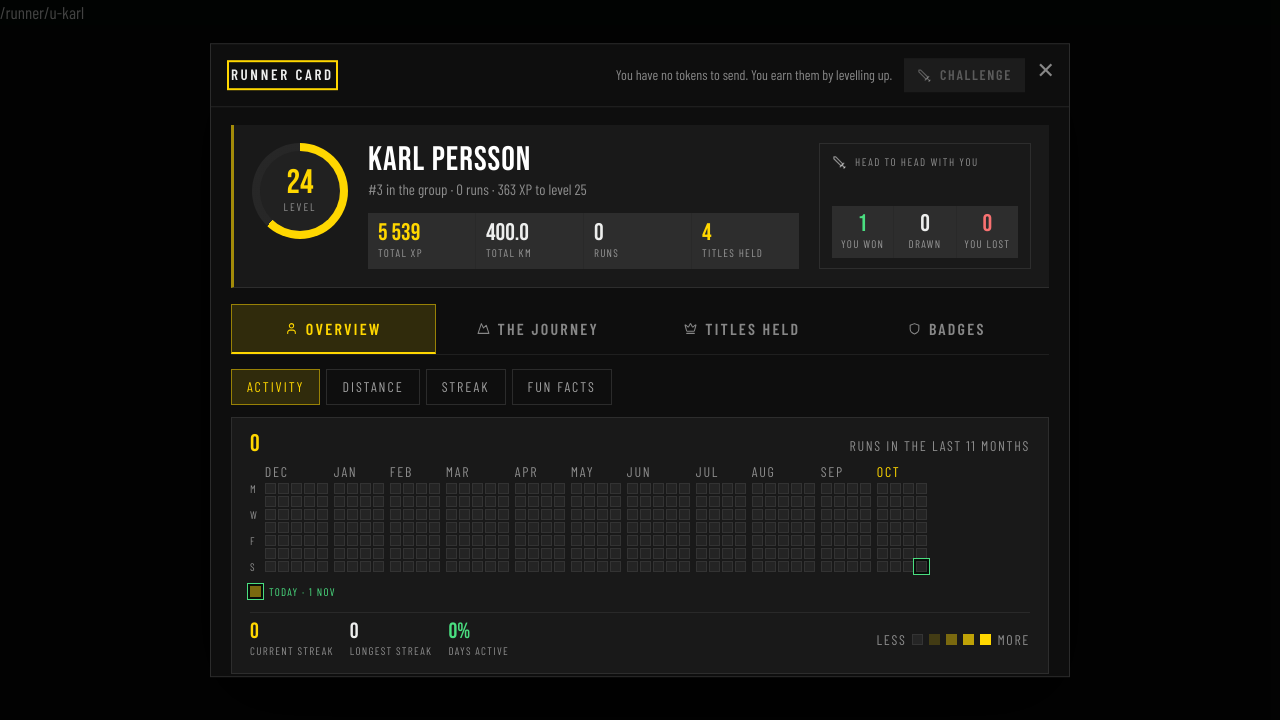
the Titles held tab of the popup › keeps the note above the Runner-up list when a category has only runner-up titles
The width and height of the screenshot is (1280, 720).
Check: the heading "Karl Persson" is shown, box 368,144 -> 531,178
Click the tab "Titles held": (742, 329) 640,304 -> 844,354
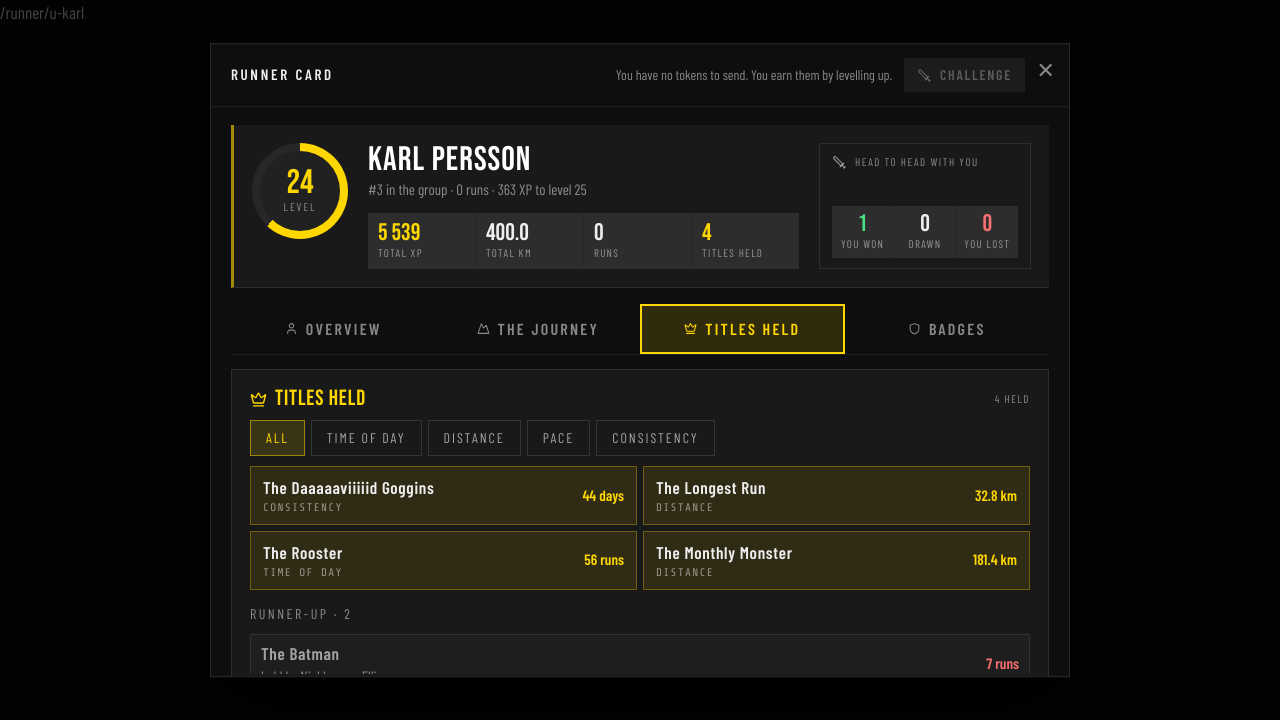
Click the button "Pace": (558, 439) 527,420 -> 590,457
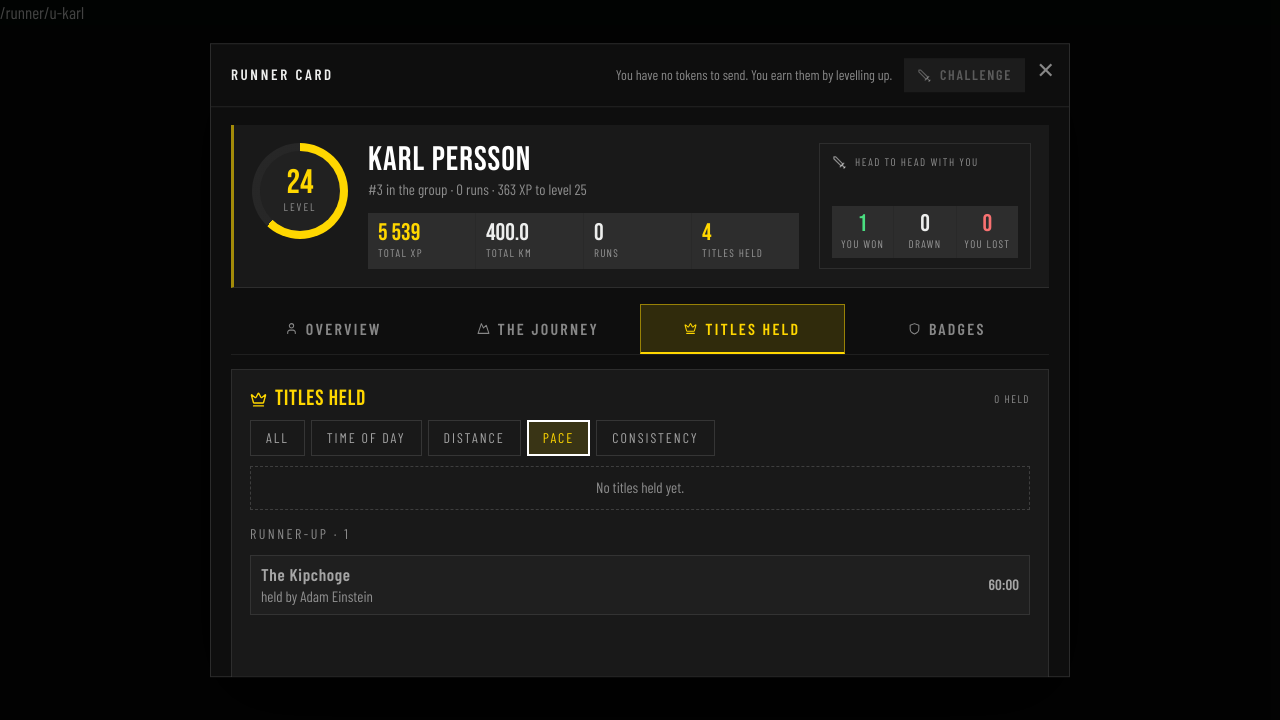
Check: the text "0 held" is shown, box 994,391 -> 1030,407
Check: the text "No titles held yet." is shown, box 250,467 -> 1030,510
